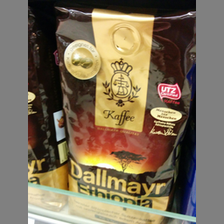coffee: (52, 2, 195, 224)
